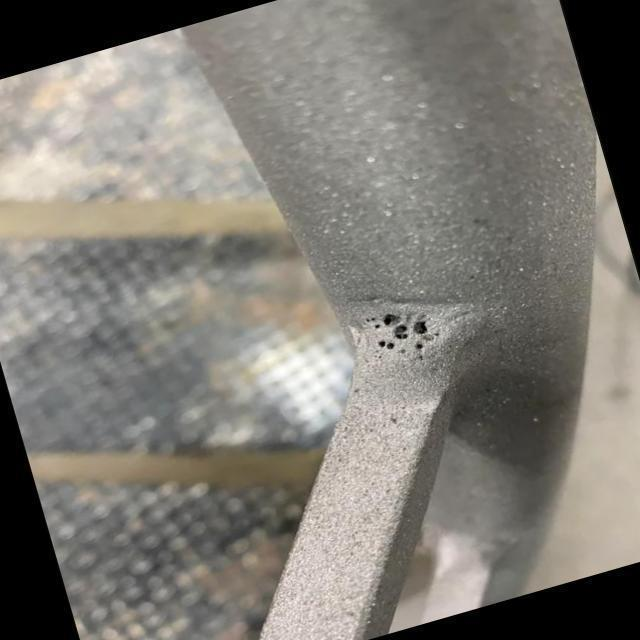defect: (359, 311, 398, 331), (410, 320, 432, 338), (389, 324, 410, 340), (375, 339, 398, 350), (414, 341, 425, 350), (373, 352, 384, 360), (416, 354, 427, 362), (396, 347, 406, 355)
